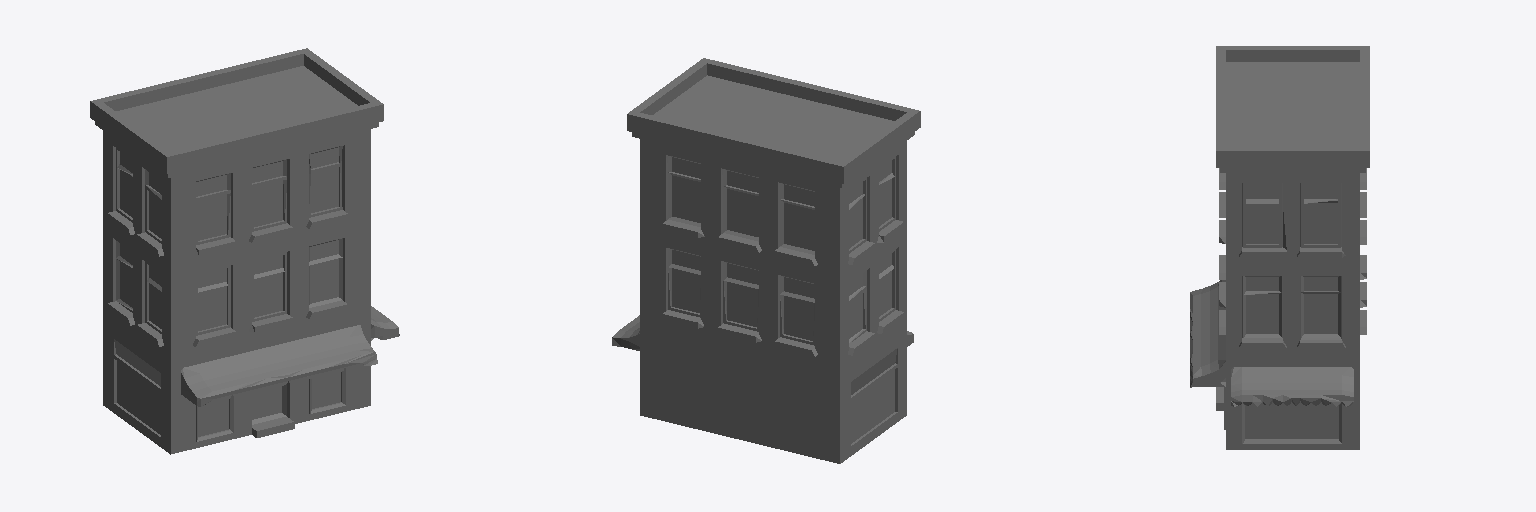
The model's file is CafeBuilding.obj.
The picture shows the model from 3 angles: view 1: azimuth 30°, elevation 25°; view 2: azimuth 150°, elevation 25°; view 3: azimuth 270°, elevation 25°; orthographic projection.
Visible parts, largest first — view 1: CafeBuilding; view 2: CafeBuilding; view 3: CafeBuilding.
Part boxes in pixels (left/top/right/bottom): CafeBuilding: left=90, top=48, right=399, bottom=454; CafeBuilding: left=612, top=58, right=920, bottom=463; CafeBuilding: left=1190, top=46, right=1369, bottom=449.
Bounding box in the file's own units: 1448 × 1736 × 935.